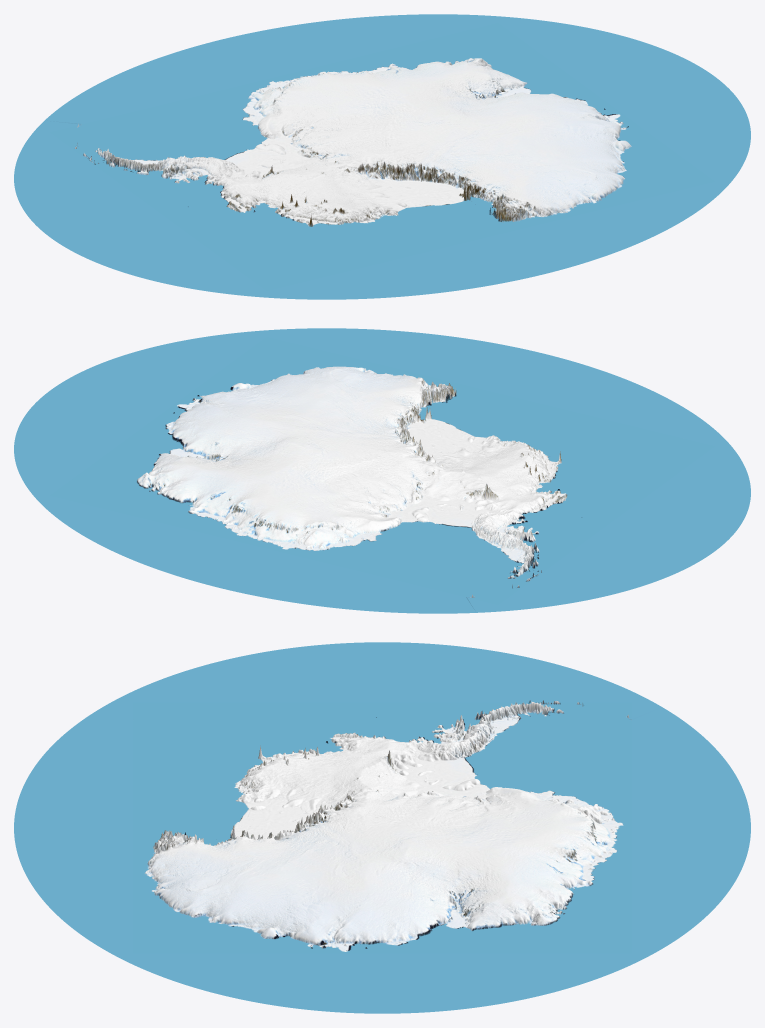
Rendered from antartida-terrain.glb.
The picture shows the model from 3 angles, top to bottom: view 1: azimuth 30°, elevation 25°; view 2: azimuth 150°, elevation 25°; view 3: azimuth 270°, elevation 25°; orthographic projection. The views are drawn at different scales.
Visible parts, largest first — view 1: Superfície geográfica; view 2: Superfície geográfica; view 3: Superfície geográfica.
Part boxes in pixels (box(x1,y1,x2,y2)): Superfície geográfica: box(14, 14, 750, 299); Superfície geográfica: box(14, 328, 750, 613); Superfície geográfica: box(14, 642, 750, 1013).
Bounding box in the file's own units: 2.51 × 0.0579 × 2.11.
2 materials, 1 textured.
